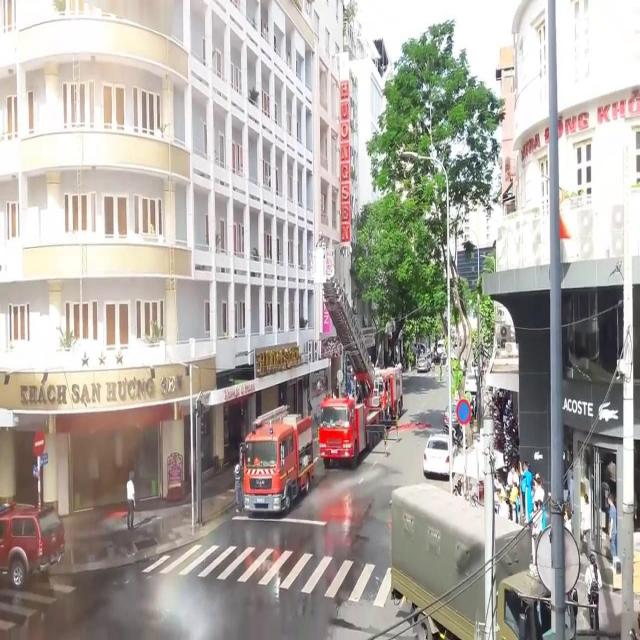car: (0, 498, 64, 586), (422, 431, 450, 480)
truck: (390, 483, 550, 639), (317, 250, 381, 468), (239, 404, 313, 513)
